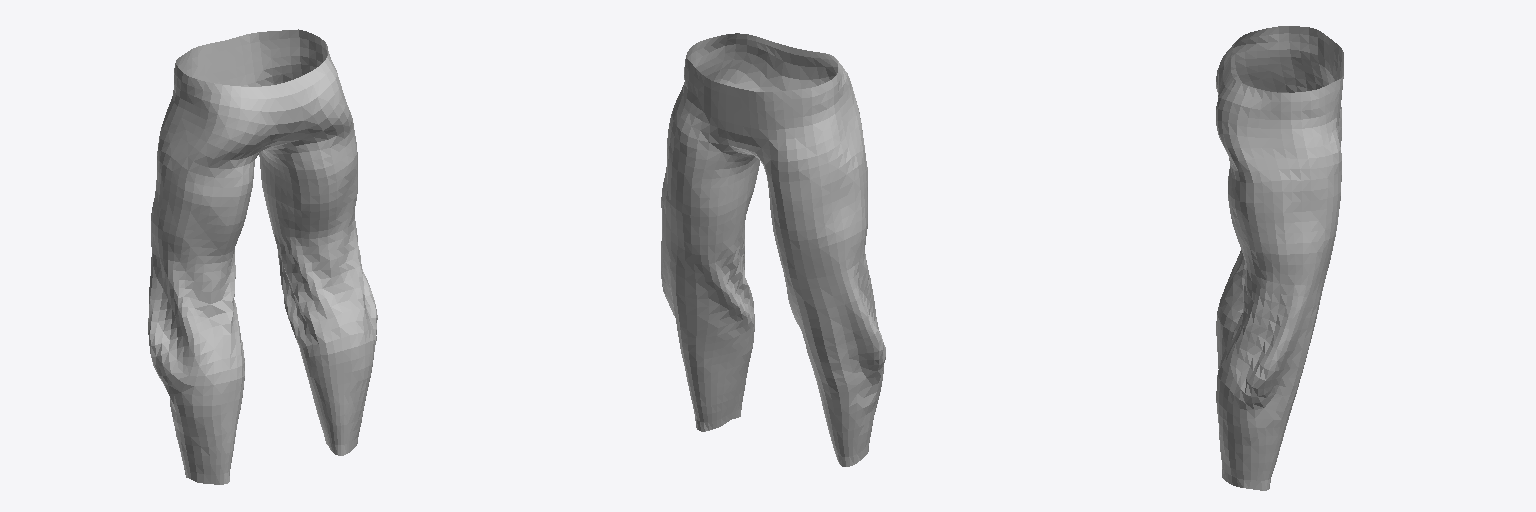
Rendered from PantalonesLow.OBJ.
3 renders of one model, left to right at view 1: azimuth 30°, elevation 25°; view 2: azimuth 150°, elevation 25°; view 3: azimuth 270°, elevation 25°, orthographic.
Visible parts, largest first — view 1: Group40343; view 2: Group40343; view 3: Group40343.
Part boxes in pixels (left/top/right/bottom): Group40343: left=148, top=29, right=377, bottom=484; Group40343: left=661, top=33, right=885, bottom=466; Group40343: left=1216, top=26, right=1343, bottom=490.
Size of the model in its own units: 733 by 1256 by 371.